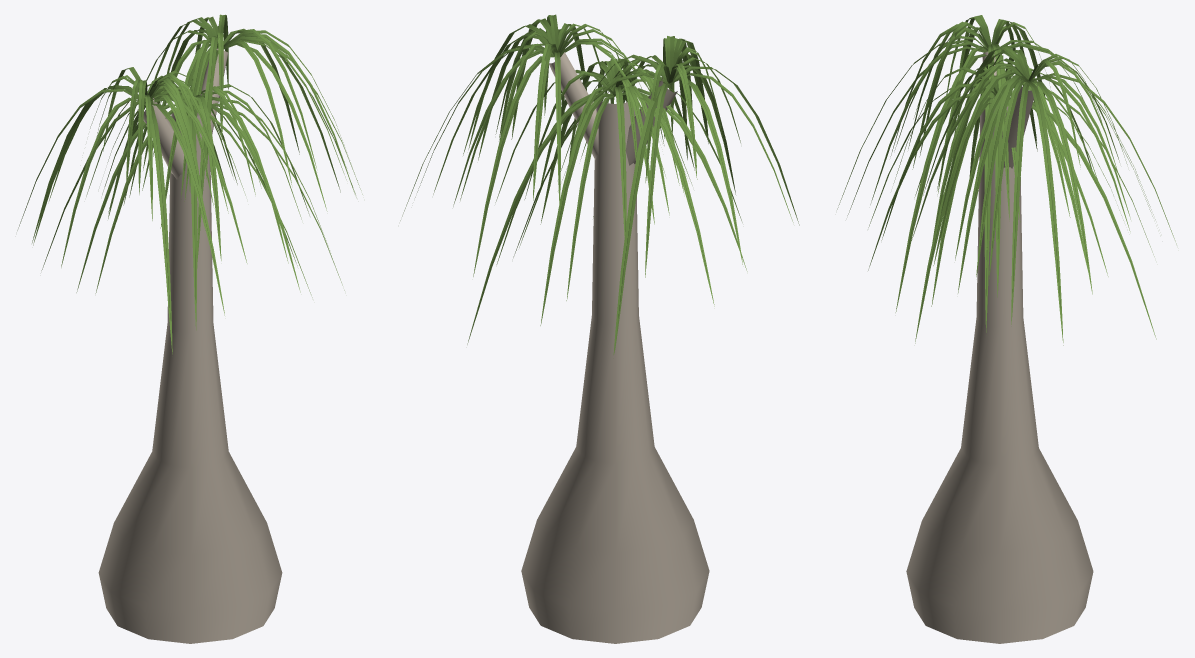
File: beaucarnea-recurvata.glb
3 renders of one model, left to right at view 1: azimuth 30°, elevation 25°; view 2: azimuth 150°, elevation 25°; view 3: azimuth 270°, elevation 25°, orthographic. The views are drawn at different scales.
Parts seen in each view (by area): view 1: tronco, folhas; view 2: tronco, folhas; view 3: tronco, folhas.
Boxes of the visible parts, x1=… form: tronco: x1=98, y1=48, x2=282, y2=643; folhas: x1=17, y1=14, x2=362, y2=354; tronco: x1=521, y1=52, x2=709, y2=643; folhas: x1=400, y1=14, x2=799, y2=354; tronco: x1=906, y1=51, x2=1093, y2=643; folhas: x1=837, y1=15, x2=1176, y2=345.
Bounding box in the file's own units: 2.5 × 4 × 2.2.
2 materials, 1 textured.
